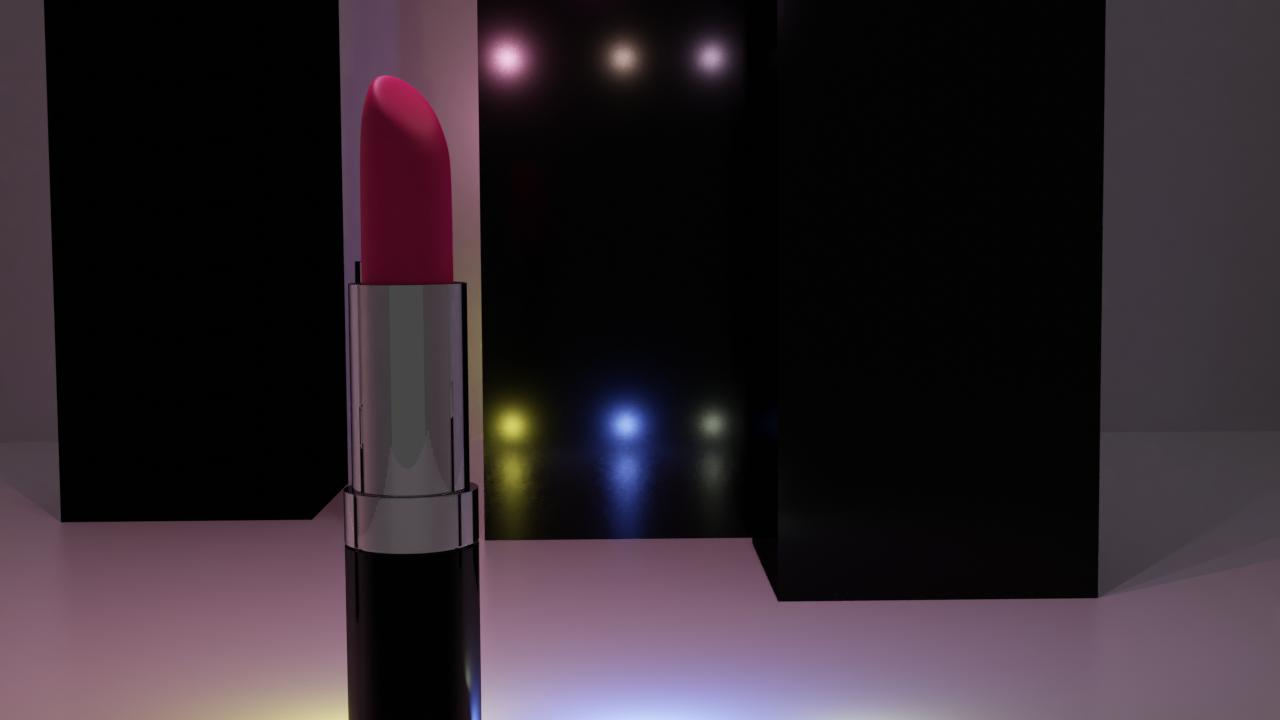CLASSIFIER_NAME: (341, 67, 485, 720)
